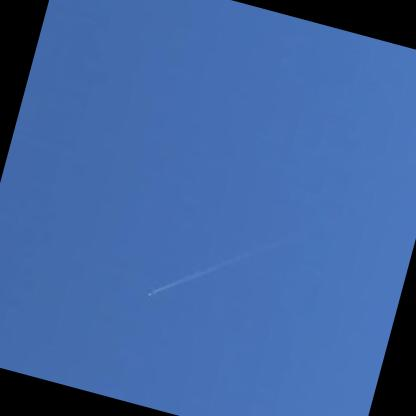plane: (134, 285, 159, 302)
